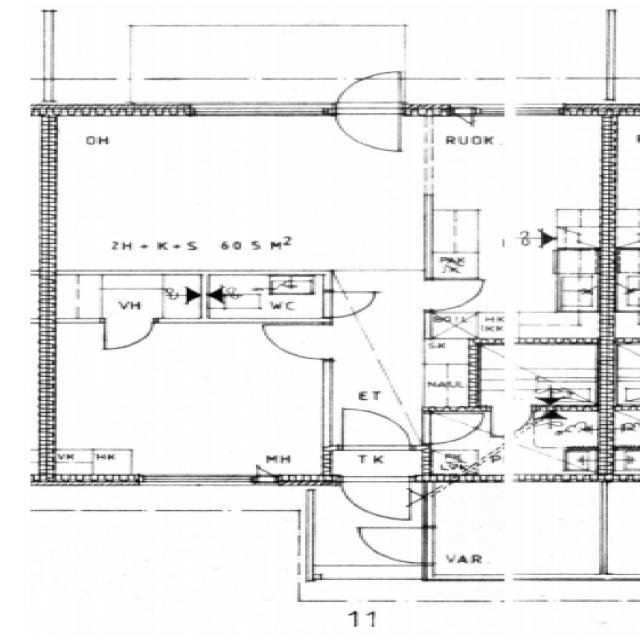door: (336, 104, 400, 151), (336, 68, 400, 115), (342, 474, 408, 519), (343, 408, 409, 450), (359, 528, 433, 562), (261, 325, 332, 359), (422, 414, 484, 445), (422, 280, 486, 310), (104, 318, 153, 351), (323, 292, 377, 318), (491, 406, 532, 434)
